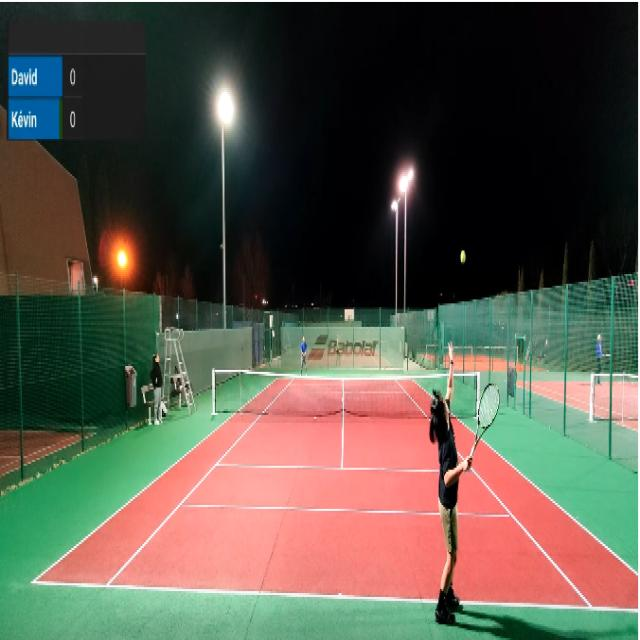ball: (459, 248, 466, 264)
